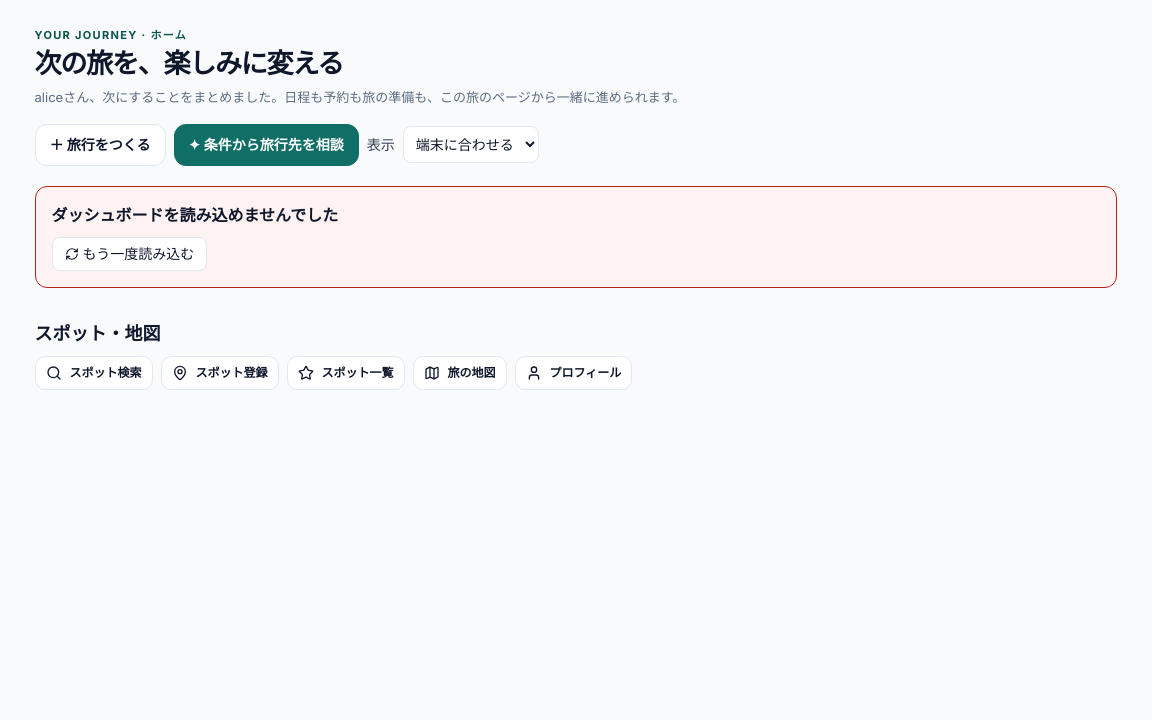
Test: DashboardPage › 失敗: 案内と再試行(押すと読み直す)
What coordinates should you click on to do the following:
click the button "もう一度読み込む"
I would click on:
 (129, 254)
Its box is x1=52 y1=237 x2=207 y2=271.
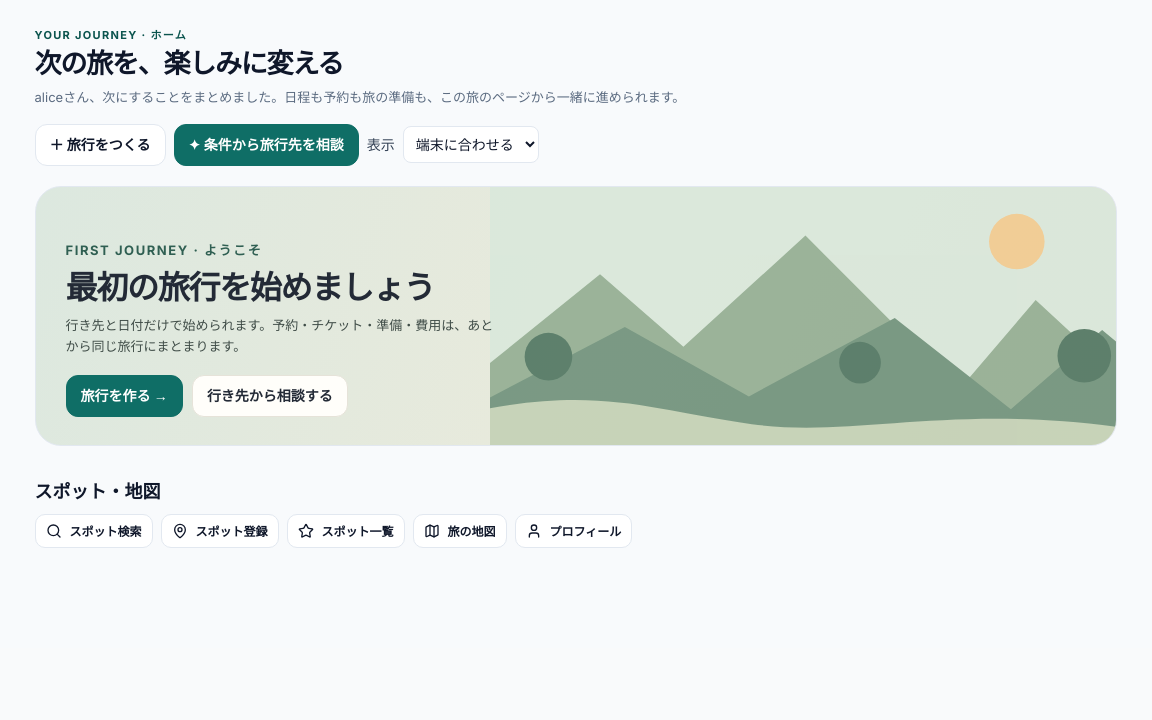
Expected: the element with test id "dashboard-hero" is shown, x1=34 y1=186 x2=1117 y2=446
